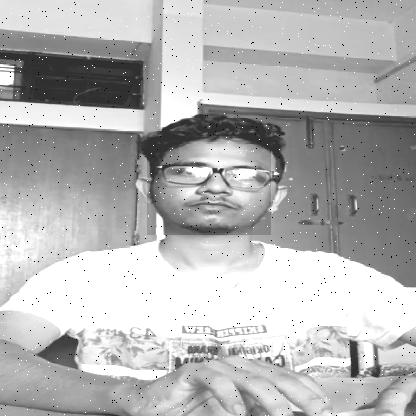Normal: (148, 137, 272, 235)
